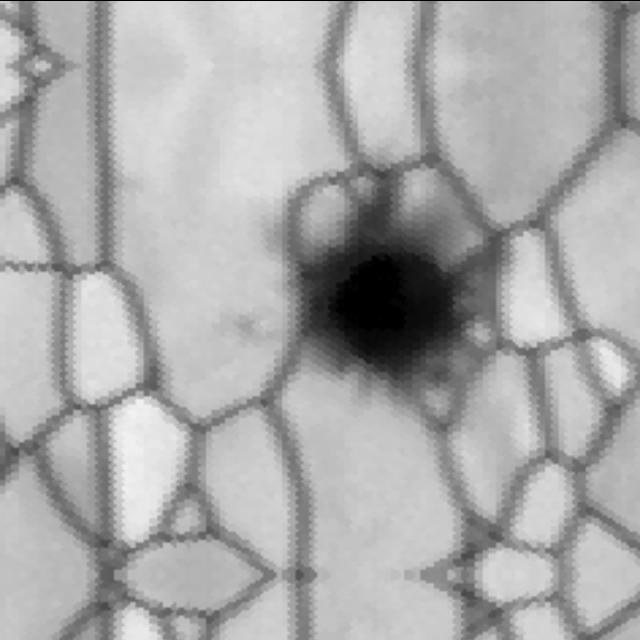good_void: (239, 139, 510, 443)
